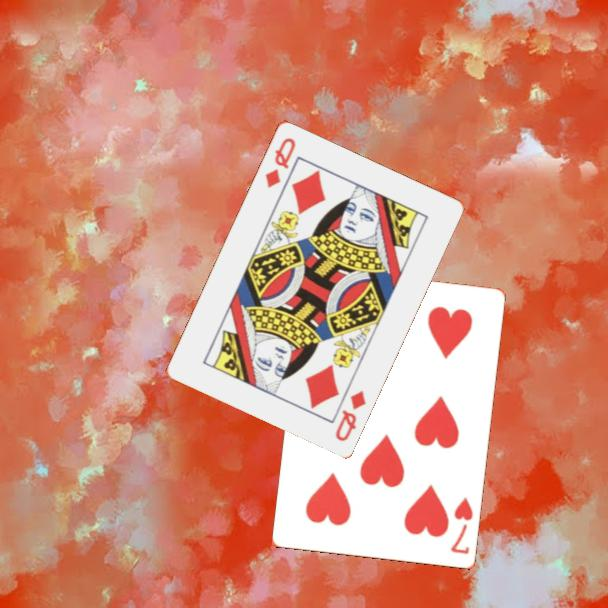d12: (331, 386, 369, 444), (261, 134, 299, 190)
h07: (448, 494, 476, 557)
